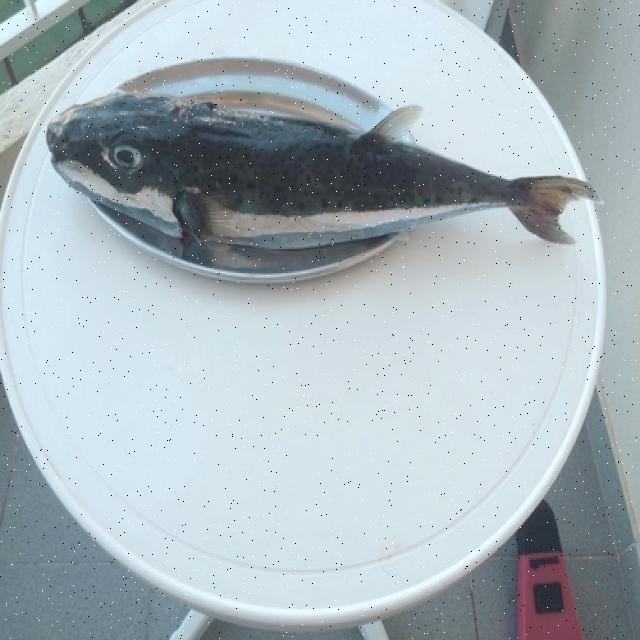Balik: (48, 93, 597, 249)
